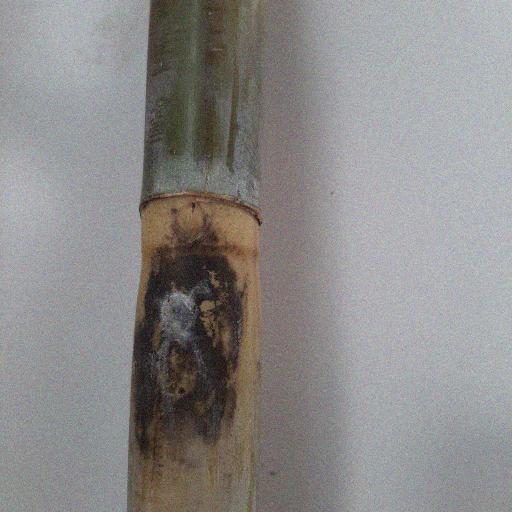Bud: (177, 201, 207, 242)
